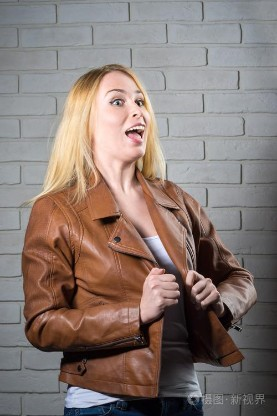张嘴: (122, 124, 146, 145)
